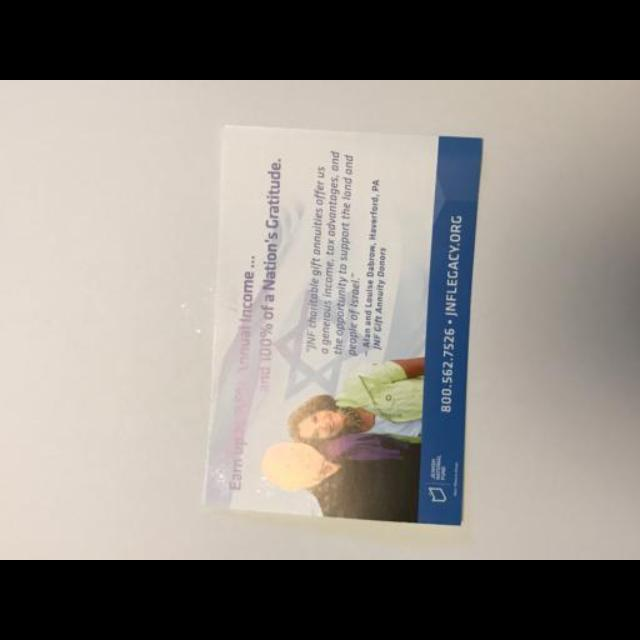papel: (203, 127, 482, 528)
